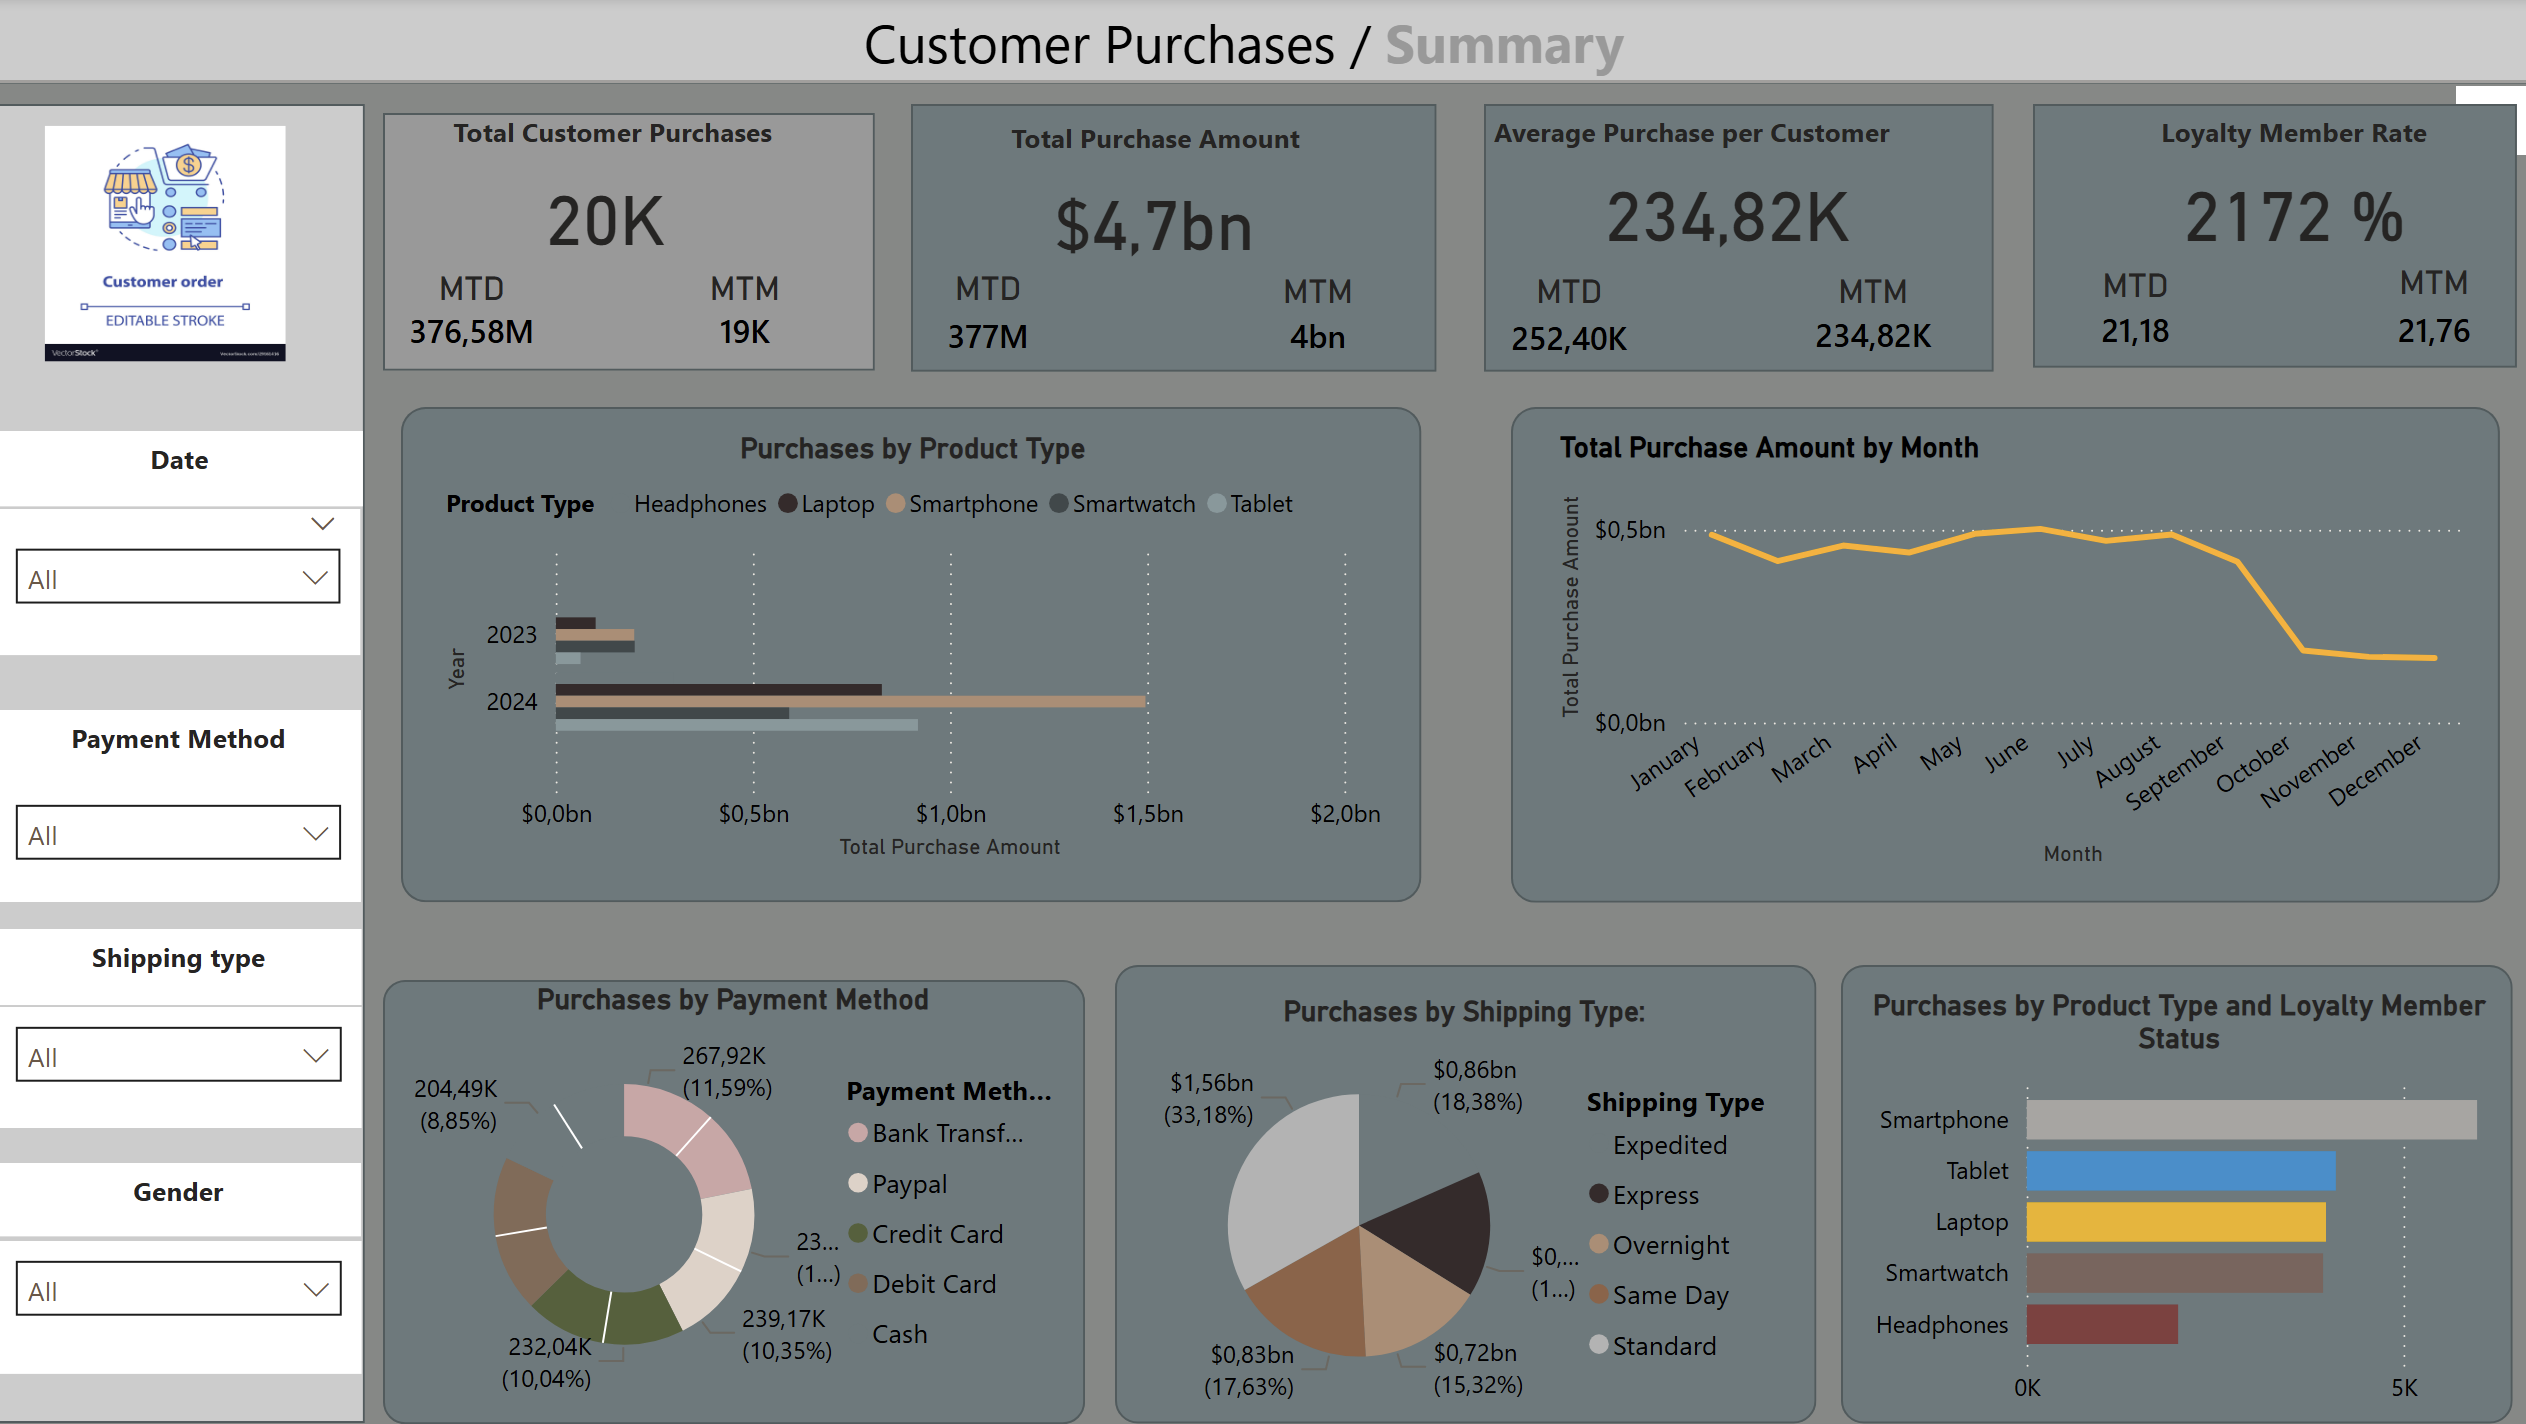

What the dashboard file says about the page in this screenshot:
{"tool":"powerbi","page":{"name":"Summary","canvas":[1280,720],"ordinal":0},"visuals":[{"type":"shape","box":[196,59,248,130],"z":0},{"type":"card","title":"Total Customer Purchases","fields":{"Values":["Customer purchase behavior - Electronic Sales Data.Total Customer Purchases"]},"box":[216.2,83.8,185,53.8],"z":1000},{"type":"shape","box":[0,0,1280,44.3],"z":2000},{"type":"shape","box":[0,55,187.5,665],"z":3000},{"type":"textbox","box":[434.3,0,614.3,54.3],"z":4000},{"type":"textbox","box":[178,55,268,54],"z":5000},{"type":"card","title":"MTD","fields":{"Values":["Customer purchase behavior - Electronic Sales Data.Month to date"]},"box":[187.5,137.5,107.5,47.5],"z":6000},{"type":"shape","box":[463,54,265,135],"z":7000},{"type":"card","title":"MTM","fields":{"Values":["Customer purchase behavior - Electronic Sales Data.1.(MoM)"]},"box":[322.5,137.5,113.8,47.5],"z":8000},{"type":"card","title":"Total Customer Purchases","fields":{"Values":["Customer purchase behavior - Electronic Sales Data.Total Purchase Amount"]},"box":[493.1,86,184.9,53],"z":9000},{"type":"card","title":"MTD","fields":{"Values":["Customer purchase behavior - Electronic Sales Data.2. MTD Total Purchase Amount"]},"box":[452.5,137.5,98.8,52.5],"z":10000},{"type":"card","title":"MTM","fields":{"Values":["Customer purchase behavior - Electronic Sales Data.2.MoM_Total_Purchase_Amount"]},"box":[618.8,138.8,98.8,50],"z":11000},{"type":"textbox","box":[452.9,57.3,268,54.5],"z":12000},{"type":"shape","box":[752,54,257,135],"z":13000},{"type":"card","title":"Total Customer Purchases","fields":{"Values":["Customer purchase behavior - Electronic Sales Data.Average Purchase per Customer"]},"box":[782.6,81.7,184.9,53],"z":14000},{"type":"card","title":"MTD","fields":{"Values":["Customer purchase behavior - Electronic Sales Data.3.MTD Average Purchase per Customer"]},"box":[741,139,107,52],"z":15000},{"type":"card","title":"MTM","fields":{"Values":["Customer purchase behavior - Electronic Sales Data.Average Spending by Payment Method"]},"box":[899,139,99,49],"z":16000},{"type":"shape","box":[1028,54,244,133],"z":17000},{"type":"card","title":"Total Customer Purchases","fields":{"Values":["Customer purchase behavior - Electronic Sales Data.Loyalty Member Rate"]},"box":[1067.9,81.7,184.9,53],"z":18000},{"type":"card","title":"MTD","fields":{"Values":["Customer purchase behavior - Electronic Sales Data.4.Loyalty Member Rate"]},"box":[1027.5,136.2,106.2,50],"z":19000},{"type":"card","title":"MTM","fields":{"Values":["Customer purchase behavior - Electronic Sales Data.4. MoM Loyalty Member Rate"]},"box":[1181,135,99,53],"z":20000},{"type":"textbox","box":[752,54,267,55],"z":21000},{"type":"textbox","box":[1039.2,54.5,242.2,54.5],"z":22000},{"type":"shape","box":[206.5,207.5,514.6,249.8],"z":23000},{"type":"shape","box":[765.7,207.1,498.6,250],"z":24000},{"type":"lineChart","fields":{"Y":["Customer purchase behavior - Electronic Sales Data.Total Purchase Amount"],"Category":["Date table.Date.Variation.Date Hierarchy.Month"]},"box":[785.7,220,464.3,224.3],"z":25000},{"type":"shape","box":[196,496,354,224],"z":26000},{"type":"shape","box":[565,488.8,353.8,231.2],"z":27000},{"type":"shape","box":[932.5,488.8,338.8,231.2],"z":28000},{"type":"donutChart","title":"Purchases by Payment Method","fields":{"Category":["Customer purchase behavior - Electronic Sales Data.Payment Method"],"Y":["Customer purchase behavior - Electronic Sales Data.Average Spending by Payment Method"],"Series":["Customer purchase behavior - Electronic Sales Data.Loyalty Member"]},"box":[201,497,344,217],"z":29000},{"type":"clusteredBarChart","title":"Purchases by Product Type","fields":{"Category":["Date table.Date.Variation.Date Hierarchy.Year"],"Y":["Customer purchase behavior - Electronic Sales Data.Total Purchase Amount"],"Series":["Customer purchase behavior - Electronic Sales Data.Product Type"]},"box":[222.9,217.1,480,227.1],"z":30000},{"type":"pieChart","title":"Purchases by Shipping Type:","fields":{"Category":["Customer purchase behavior - Electronic Sales Data.Shipping Type","Date table.Date.Variation.Date Hierarchy.Month"],"Y":["Customer purchase behavior - Electronic Sales Data.Total Purchase Amount"]},"box":[569,504,346,216],"z":31000},{"type":"clusteredBarChart","title":"Purchases by Product Type and Loyalty Member Status","fields":{"Y":["Customer purchase behavior - Electronic Sales Data.Total_Purchases"],"Category":["Customer purchase behavior - Electronic Sales Data.Rating","Customer purchase behavior - Electronic Sales Data.Product Type"]},"box":[939,501,326,219],"z":32000},{"type":"slicer","fields":{"Values":["Date table.Date.Variation.Date Hierarchy.Year","Date table.Date.Variation.Date Hierarchy.Quarter","Date table.Date.Variation.Date Hierarchy.Month","Date table.Date.Variation.Date Hierarchy.Day"]},"box":[1.2,258.8,183.8,73.8],"z":33000},{"type":"textbox","box":[0.8,470.8,184.2,38.3],"z":34000},{"type":"textbox","box":[1,360,184,38],"z":35000},{"type":"textbox","box":[1,220,185,38],"z":36000},{"type":"slicer","fields":{"Values":["Customer purchase behavior - Electronic Sales Data.Payment Method"]},"box":[1,398,184,59],"z":37000},{"type":"slicer","fields":{"Values":["Customer purchase behavior - Electronic Sales Data.Shipping Type"]},"box":[0.8,509.2,184.2,60.8],"z":38000},{"type":"image","box":[21.2,61.2,131.2,128.8],"z":39000},{"type":"textbox","box":[1,589,184,37],"z":40000},{"type":"slicer","fields":{"Values":["Customer purchase behavior - Electronic Sales Data.Gender"]},"box":[1.4,627.1,184.3,67.1],"z":40001}]}

Visuals, with their boxes in screenshot pixels (x1, y1, x2, y2), scaled from the page's 1280x720 canvas onto the 2526x1424 screenshot:
shape: locate(387, 117, 876, 374)
"Total Customer Purchases" card: locate(427, 166, 792, 272)
shape: locate(0, 0, 2525, 88)
shape: locate(0, 109, 370, 1423)
textbox: locate(857, 0, 2069, 107)
textbox: locate(351, 109, 880, 216)
"MTD" card: locate(370, 272, 582, 366)
shape: locate(914, 107, 1437, 374)
"MTM" card: locate(636, 272, 861, 366)
"Total Customer Purchases" card: locate(973, 170, 1338, 275)
"MTD" card: locate(893, 272, 1088, 376)
"MTM" card: locate(1221, 275, 1416, 373)
textbox: locate(894, 113, 1423, 221)
shape: locate(1484, 107, 1991, 374)
"Total Customer Purchases" card: locate(1544, 162, 1909, 266)
"MTD" card: locate(1462, 275, 1673, 378)
"MTM" card: locate(1774, 275, 1969, 372)
shape: locate(2029, 107, 2510, 370)
"Total Customer Purchases" card: locate(2107, 162, 2472, 266)
"MTD" card: locate(2028, 269, 2237, 368)
"MTM" card: locate(2331, 267, 2525, 372)
textbox: locate(1484, 107, 2011, 216)
textbox: locate(2051, 108, 2525, 216)
shape: locate(408, 410, 1423, 904)
shape: locate(1511, 410, 2495, 904)
lineChart - Customer purchase behavior - Electronic Sales Data.Total Purchase Amount x Date table.Date.Variation.Date Hierarchy.Month: locate(1551, 435, 2467, 879)
shape: locate(387, 981, 1085, 1423)
shape: locate(1115, 967, 1813, 1423)
shape: locate(1840, 967, 2509, 1423)
"Purchases by Payment Method" donutChart: locate(397, 983, 1076, 1412)
"Purchases by Product Type" clusteredBarChart: locate(440, 429, 1387, 879)
"Purchases by Shipping Type:" pieChart: locate(1123, 997, 1806, 1423)
"Purchases by Product Type and Loyalty Member Status" clusteredBarChart: locate(1853, 991, 2496, 1423)
slicer - Date table.Date.Variation.Date Hierarchy.Year x Date table.Date.Variation.Date Hierarchy.Quarter: locate(2, 512, 365, 658)
textbox: locate(2, 931, 365, 1007)
textbox: locate(2, 712, 365, 787)
textbox: locate(2, 435, 367, 510)
slicer - Customer purchase behavior - Electronic Sales Data.Payment Method: locate(2, 787, 365, 904)
slicer - Customer purchase behavior - Electronic Sales Data.Shipping Type: locate(2, 1007, 365, 1127)
image: locate(42, 121, 301, 376)
textbox: locate(2, 1165, 365, 1238)
slicer - Customer purchase behavior - Electronic Sales Data.Gender: locate(3, 1240, 366, 1373)
